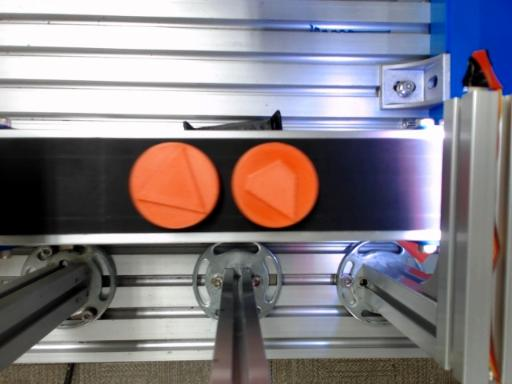Orange_Waper: (129, 142, 220, 229), (231, 142, 318, 227)
